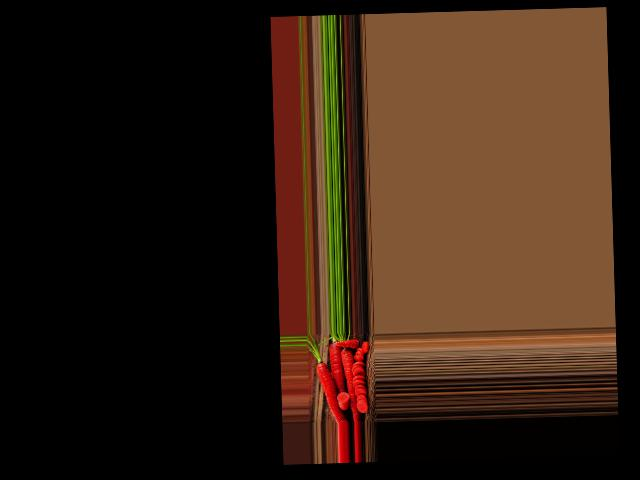carrot: (338, 343, 362, 423)
